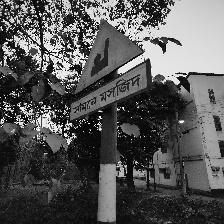Mosque in front: (65, 20, 152, 123)
